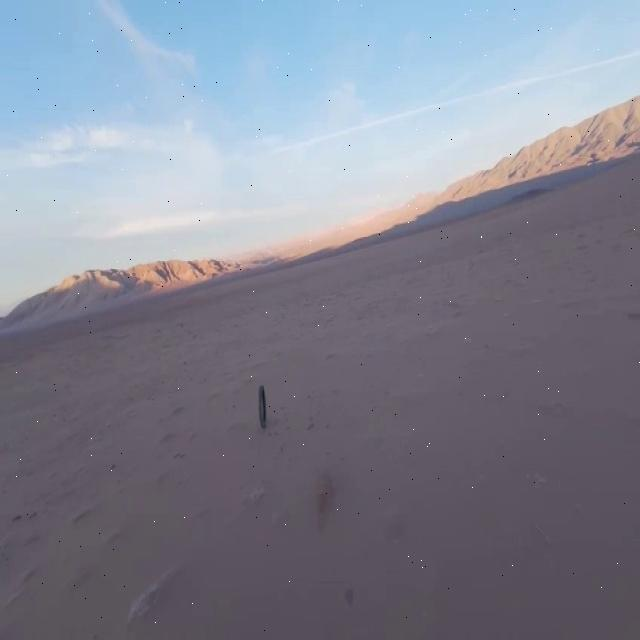Tire: (259, 386, 266, 427)
